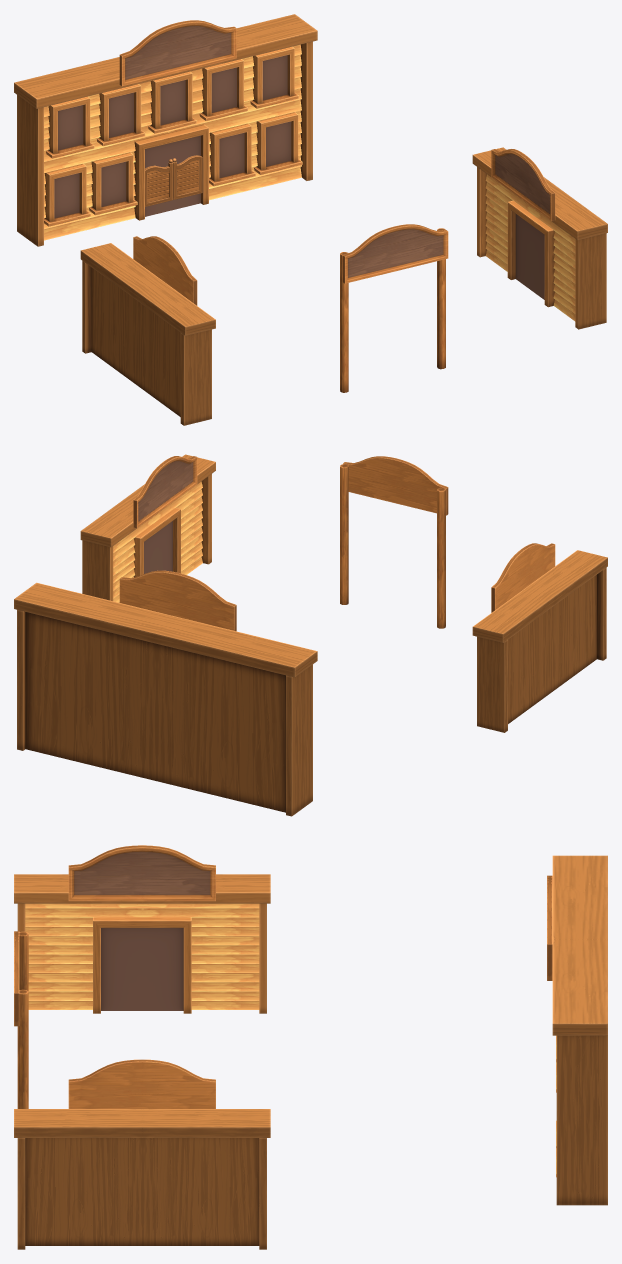
File: obj_wall.gltf
3 views of the same model, one above another, from view 1: azimuth 30°, elevation 25°; view 2: azimuth 150°, elevation 25°; view 3: azimuth 270°, elevation 25° (orthographic). The views are drawn at different scales.
Visible parts, largest first — view 1: obj_wall; view 2: obj_wall; view 3: obj_wall.
Part boxes in pixels (x1,y1,x2,y2): obj_wall: (14,14,607,425); obj_wall: (14,454,607,816); obj_wall: (14,845,607,1249).
Size of what is drawn, in the model's own units: 15.8 by 7.09 by 15.69.
Materials: 5 (5 with a texture image).
